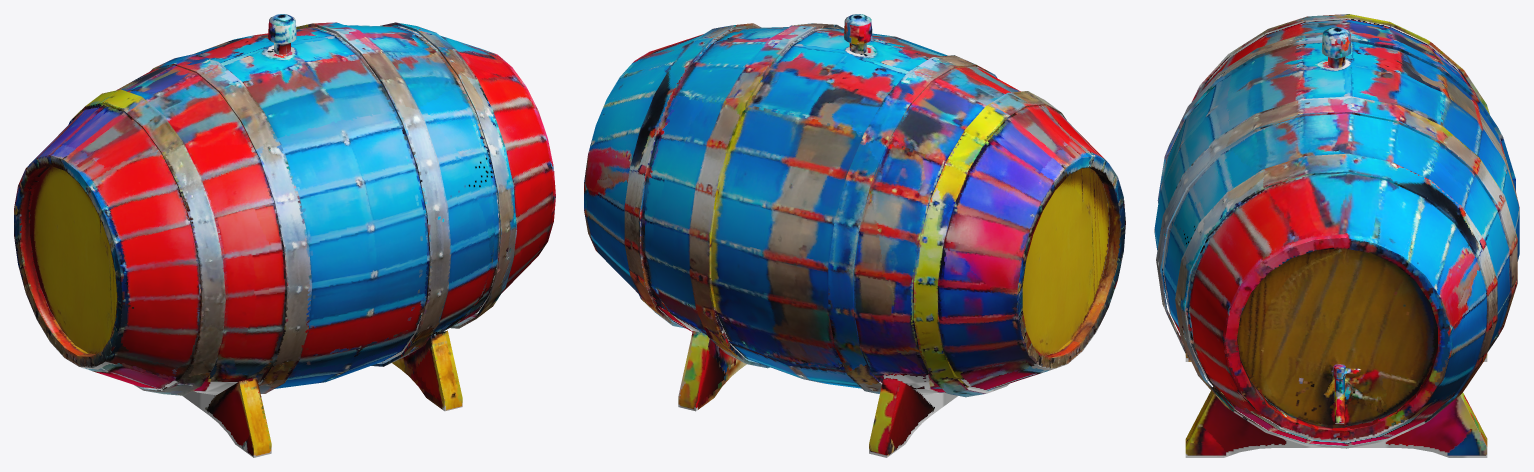
3 renders of one model, left to right at view 1: azimuth 30°, elevation 25°; view 2: azimuth 150°, elevation 25°; view 3: azimuth 270°, elevation 25°, orthographic. The views are drawn at different scales.
Visible parts, largest first — view 1: 9.002; view 2: 9.002; view 3: 9.002.
Boxes of the visible parts, <box> form: 9.002: <box>14,14,555,457</box>; 9.002: <box>584,14,1125,457</box>; 9.002: <box>1154,14,1519,457</box>.
Bounding box in the file's own units: 2 × 1.48 × 1.31.
1 material, 1 textured.
